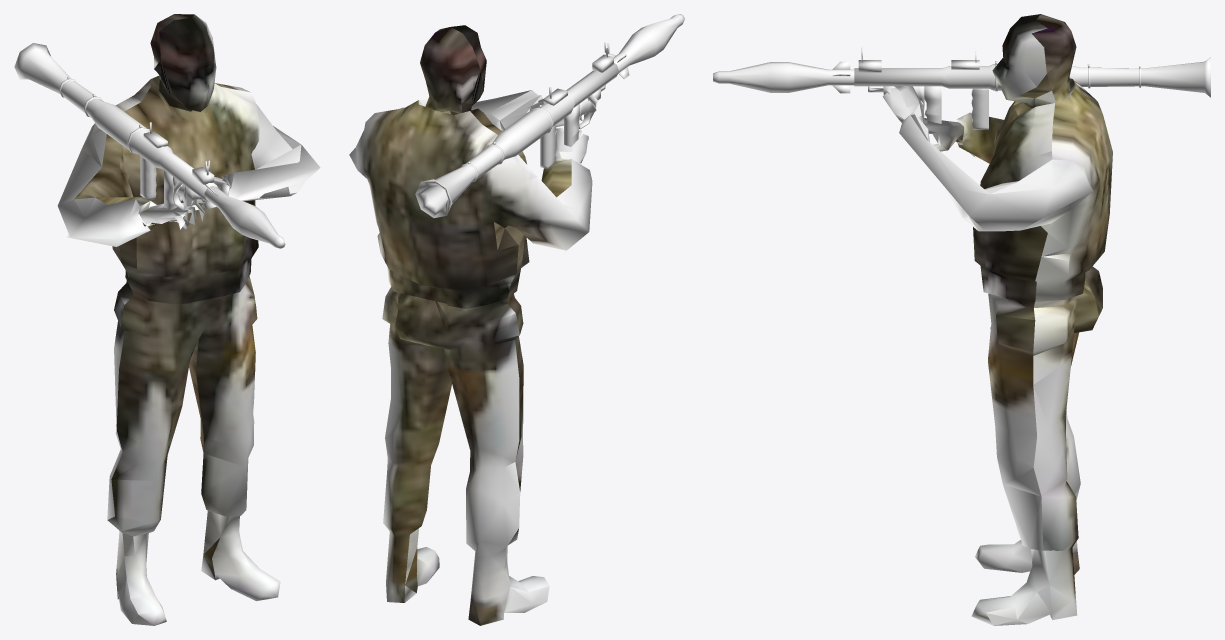
Rendered from SoldierRPG.FBX.
3 views of the same model, side by side, from view 1: azimuth 30°, elevation 25°; view 2: azimuth 150°, elevation 25°; view 3: azimuth 270°, elevation 25° (orthographic).
Visible parts, largest first — view 1: jhghj, cylinder9; view 2: jhghj, cylinder9; view 3: jhghj, cylinder9.
Boxes of the visible parts, bbox=[...] form: jhghj: bbox=[57, 14, 320, 625]; cylinder9: bbox=[14, 43, 285, 248]; jhghj: bbox=[349, 25, 598, 625]; cylinder9: bbox=[415, 14, 684, 217]; jhghj: bbox=[882, 14, 1112, 625]; cylinder9: bbox=[713, 47, 1210, 133].
Bounding box in the file's own units: 0.7888 × 1.89 × 1.49.
